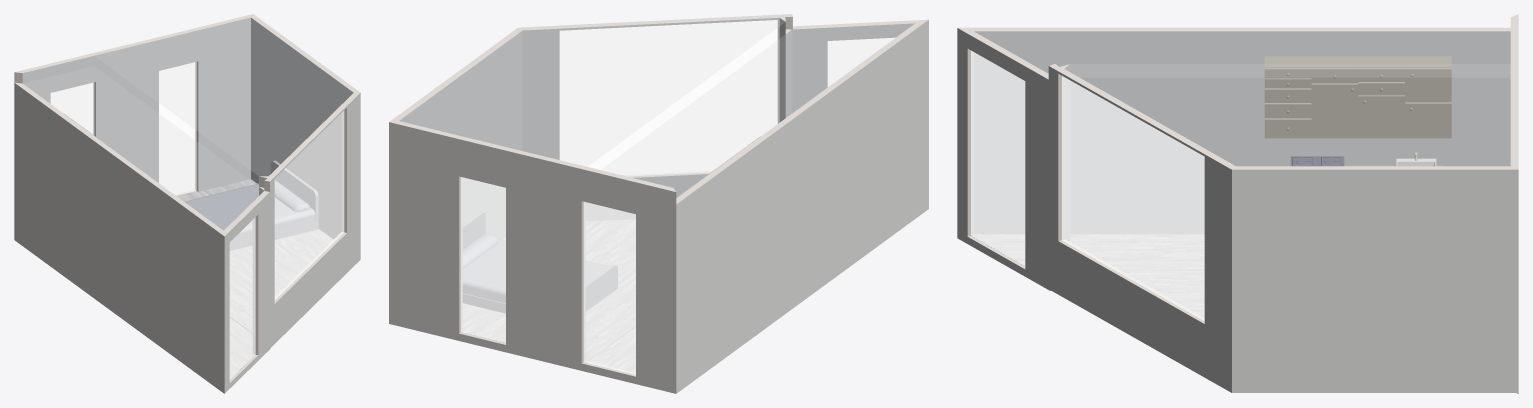
3 renders of one model, left to right at view 1: azimuth 30°, elevation 25°; view 2: azimuth 150°, elevation 25°; view 3: azimuth 270°, elevation 25°, orthographic. The views are drawn at different scales.
Visible parts, largest first — view 1: wall_3, ceiling_Bedroom, wall_8, ceiling_Kitchen, wall_10, window_0, window_2, wall_4, door_1, bed0, door_4, floor_Bedroom (+12 smaller); view 2: wall_3, wall_0, window_0, window_2, ceiling_Bedroom, ceiling_Kitchen, wall_10, door_2, door_5, door_1, door_4, wall_16 (+13 smaller); view 3: wall_1, wall_14, ceiling_Bedroom, window_0, window_2, ceiling_Kitchen, storage_cabinet_mid40, wall_4, door_0, door_3, wall_7, floor_Kitchen (+9 smaller).
Boxes of the visible parts, x1,y1,x2,y2 form: wall_3: (14,83,224,393); ceiling_Bedroom: (96,18,352,175); wall_8: (22,17,250,191); ceiling_Kitchen: (24,67,263,229); wall_10: (251,18,353,238); window_0: (275,111,343,299); window_2: (275,111,343,299); wall_4: (273,93,360,344); door_1: (159,62,196,195); bed0: (184,160,318,250); door_4: (159,62,196,195); floor_Bedroom: (177,179,332,332); wall_3: (676,20,928,393); wall_0: (389,122,676,393); window_0: (560,20,777,176); window_2: (560,20,777,175); ceiling_Bedroom: (400,18,784,166); ceiling_Kitchen: (601,24,912,196); wall_10: (399,31,522,239); door_2: (584,202,635,374); door_5: (584,202,635,374); door_1: (461,177,505,342); door_4: (461,177,505,342); wall_16: (522,17,779,221); wall_1: (1232,169,1518,392); wall_14: (974,31,1510,233); ceiling_Bedroom: (1065,64,1509,165); window_0: (1062,76,1204,320); window_2: (1062,76,1204,320); ceiling_Kitchen: (976,32,1509,76); storage_cabinet_mid40: (1264,56,1451,138); wall_4: (1056,70,1231,392); door_0: (971,51,1024,265); door_3: (971,51,1024,265); wall_7: (957,28,1050,290); floor_Kitchen: (972,234,1204,279).
Bounding box in the file's own units: 4.5 × 3.02 × 6.86.
Materials: 30 (3 with a texture image).
